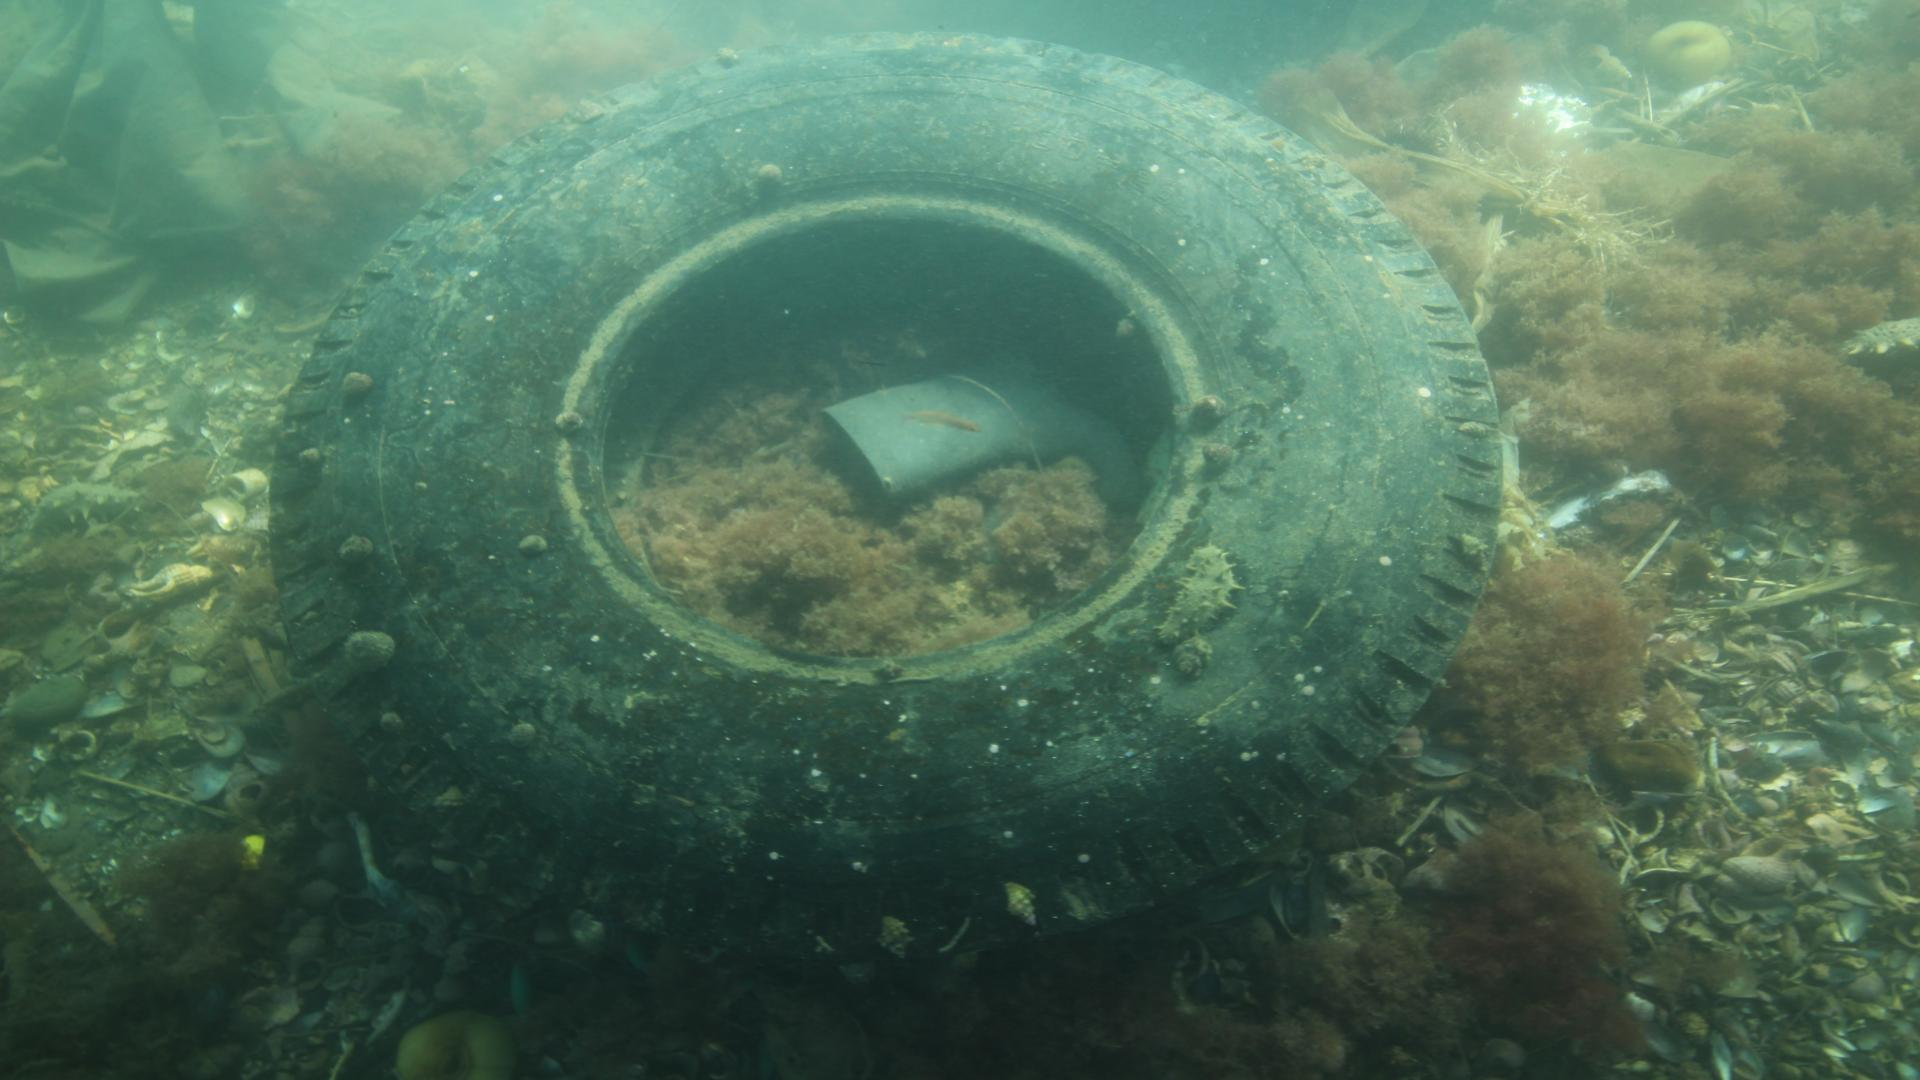tire: (266, 29, 1506, 1030)
